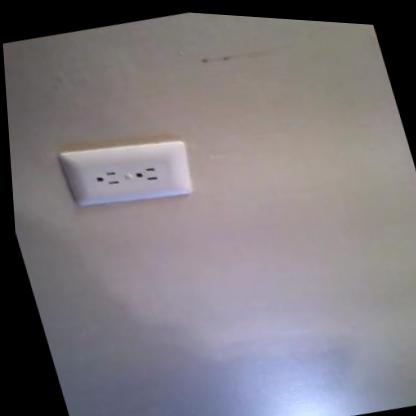OUTLET: (61, 127, 199, 216)
